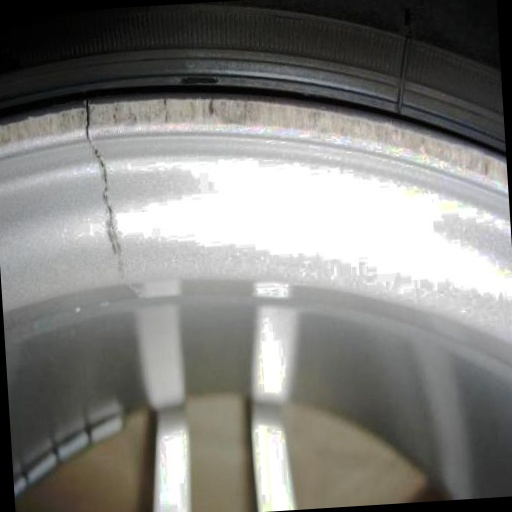crack: (71, 91, 144, 291)
